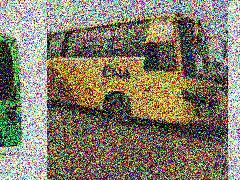bus: (47, 9, 228, 126)
